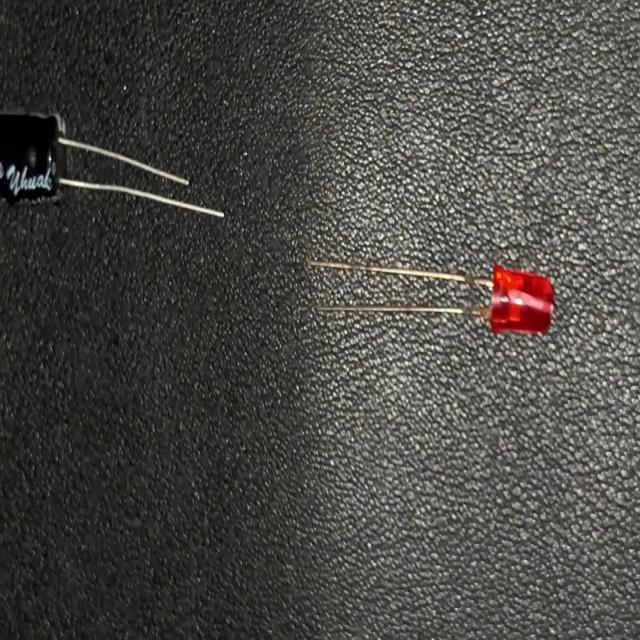LED: (308, 254, 556, 341)
capacitor: (0, 105, 227, 224)
